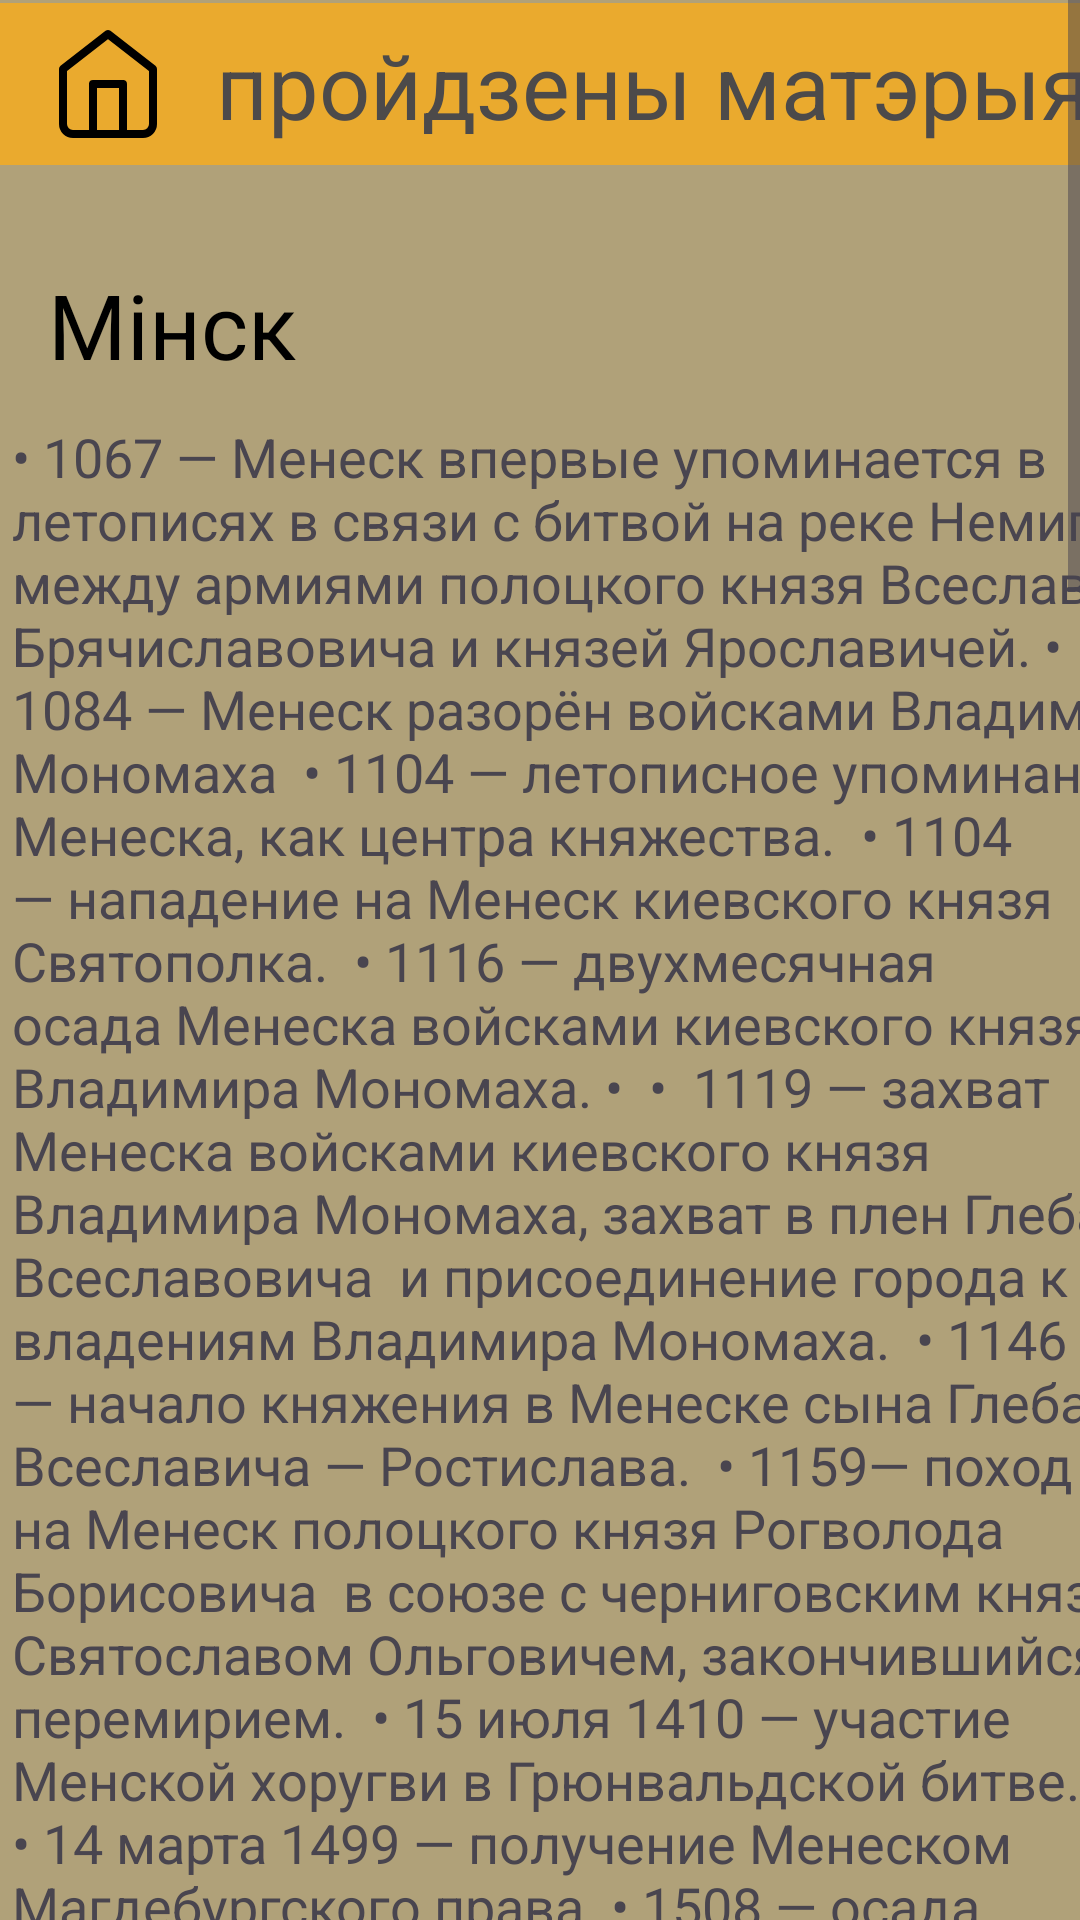

Icons on this 1080px×1920px Android screen, each with its box as region(x1, y1, x2, y2):
home: region(59, 30, 157, 138)
